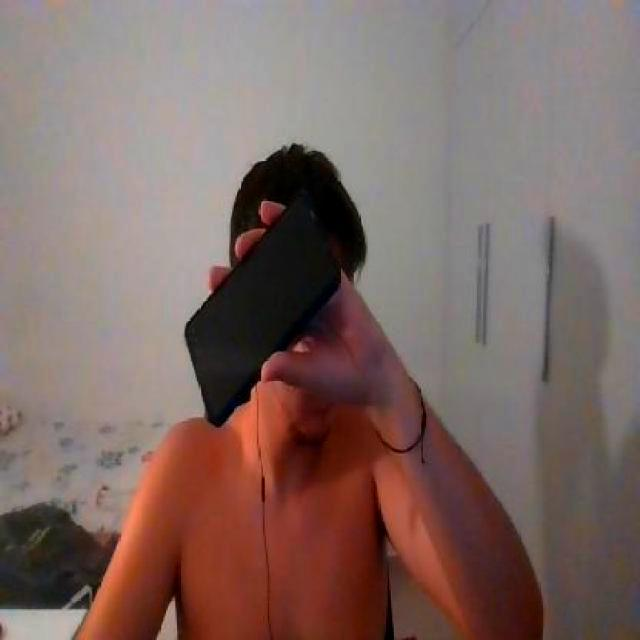phone: (184, 194, 340, 426)
